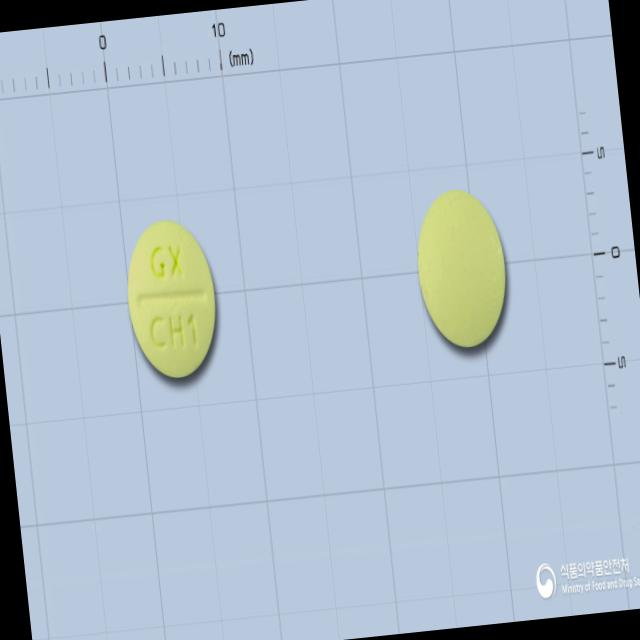Imuran: (119, 214, 224, 382)
